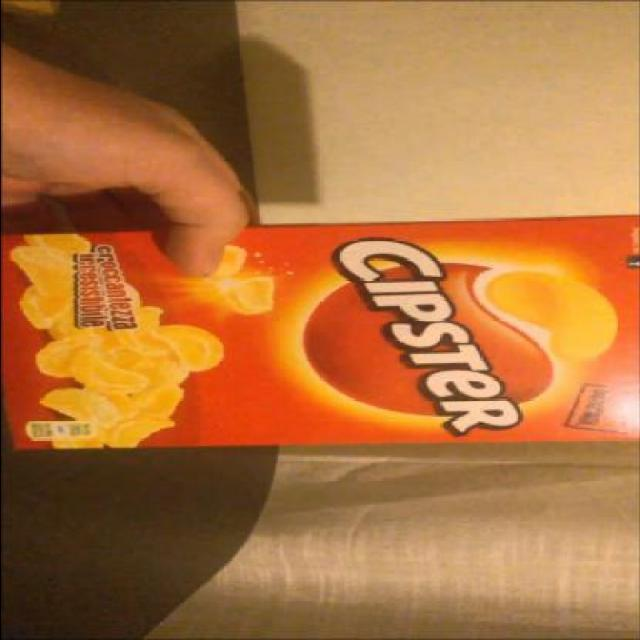Chips: (7, 210, 638, 456)
